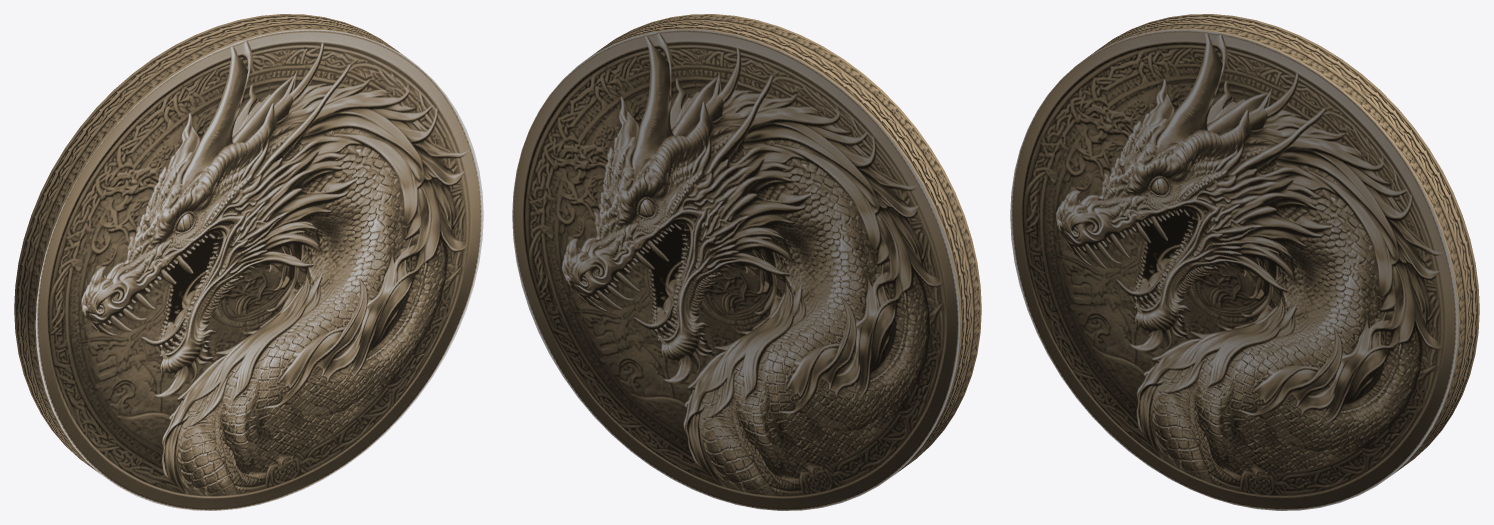
The picture shows the model from 3 angles, left to right: view 1: azimuth 30°, elevation 25°; view 2: azimuth 150°, elevation 25°; view 3: azimuth 330°, elevation 25°; orthographic projection.
Visible parts, largest first — view 1: Cylinder.001_0; view 2: Cylinder.001_0; view 3: Cylinder.001_0.
Boxes of the visible parts, x1,y1,x2,y2 form: Cylinder.001_0: [14, 14, 483, 510]; Cylinder.001_0: [512, 14, 981, 510]; Cylinder.001_0: [1010, 14, 1479, 510].
Bounding box in the file's own units: 0.0605 × 0.0605 × 0.00501.
1 material, 1 textured.
